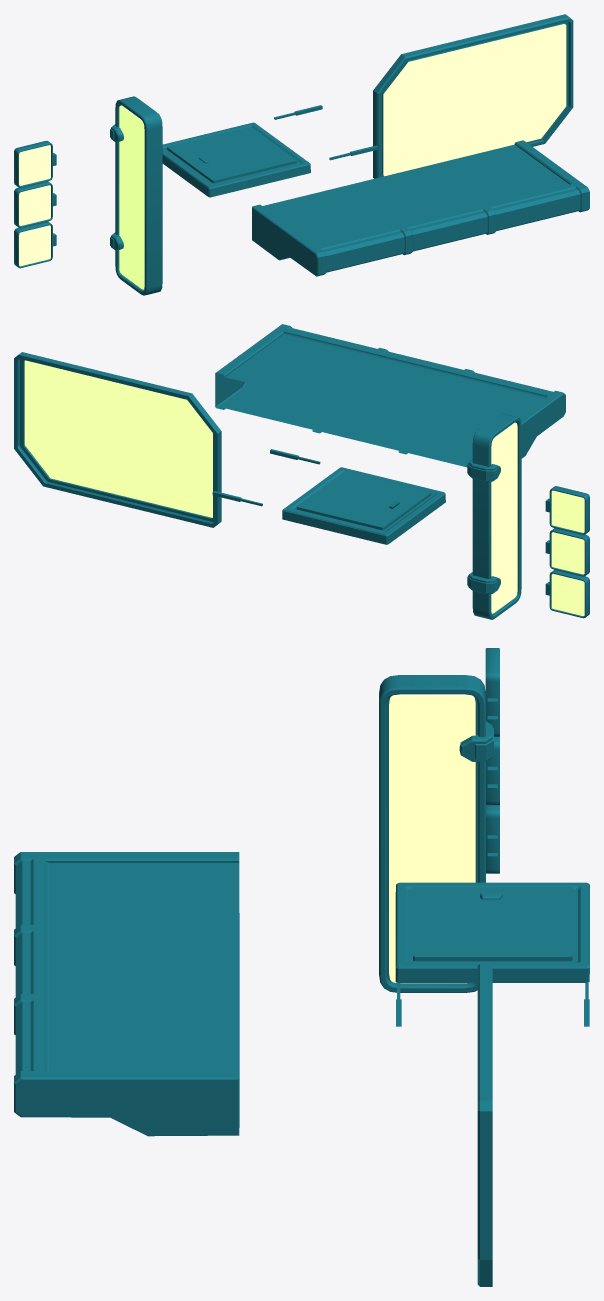
File: Mesh_Substance_Combine_Attachments.FBX
The picture shows the model from 3 angles, top to bottom: view 1: azimuth 30°, elevation 25°; view 2: azimuth 150°, elevation 25°; view 3: azimuth 270°, elevation 25°; orthographic projection. The views are drawn at different scales.
Visible parts, largest first — view 1: Mesh_BackgroundProp_Plattform, Mesh_BackgroundProp_Advertising_07, Mesh_BackgroundProp_Advertising_06, Mesh_ArenaWall_Right_Door, Mesh_BackgroundProp_Advertising_05, Mesh_ArenaWall_Right_Door_Extender; view 2: Mesh_BackgroundProp_Plattform, Mesh_BackgroundProp_Advertising_07, Mesh_BackgroundProp_Advertising_06, Mesh_ArenaWall_Right_Door, Mesh_BackgroundProp_Advertising_05, Mesh_ArenaWall_Right_Door_Extender; view 3: Mesh_BackgroundProp_Plattform, Mesh_BackgroundProp_Advertising_06, Mesh_ArenaWall_Right_Door, Mesh_BackgroundProp_Advertising_07, Mesh_BackgroundProp_Advertising_05.
Part boxes in pixels (bbox=[...]): Mesh_BackgroundProp_Plattform: bbox=[252, 140, 589, 276]; Mesh_BackgroundProp_Advertising_07: bbox=[373, 14, 573, 178]; Mesh_BackgroundProp_Advertising_06: bbox=[110, 96, 162, 295]; Mesh_ArenaWall_Right_Door: bbox=[162, 122, 310, 197]; Mesh_BackgroundProp_Advertising_05: bbox=[14, 140, 56, 268]; Mesh_ArenaWall_Right_Door_Extender: bbox=[274, 105, 377, 160]; Mesh_BackgroundProp_Plattform: bbox=[215, 324, 565, 467]; Mesh_BackgroundProp_Advertising_07: bbox=[14, 352, 221, 527]; Mesh_BackgroundProp_Advertising_06: bbox=[467, 413, 521, 619]; Mesh_ArenaWall_Right_Door: bbox=[282, 467, 445, 544]; Mesh_BackgroundProp_Advertising_05: bbox=[545, 486, 589, 618]; Mesh_ArenaWall_Right_Door_Extender: bbox=[212, 449, 320, 506]; Mesh_BackgroundProp_Plattform: bbox=[14, 852, 239, 1136]; Mesh_BackgroundProp_Advertising_06: bbox=[379, 675, 493, 992]; Mesh_ArenaWall_Right_Door: bbox=[395, 882, 589, 982]; Mesh_BackgroundProp_Advertising_07: bbox=[477, 963, 492, 1286]; Mesh_BackgroundProp_Advertising_05: bbox=[485, 648, 499, 873].
Bounding box in the file's own units: 13961 × 7378 × 4317.
